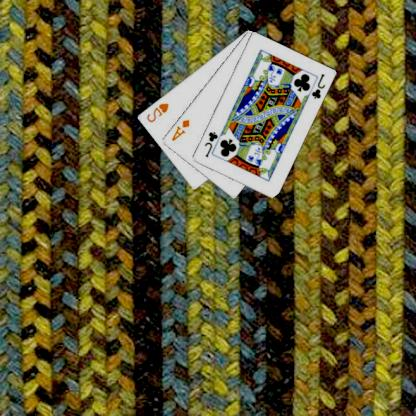2H: (145, 100, 172, 124)
AD: (170, 116, 193, 142)
JC: (203, 129, 221, 159), (311, 71, 328, 100)
